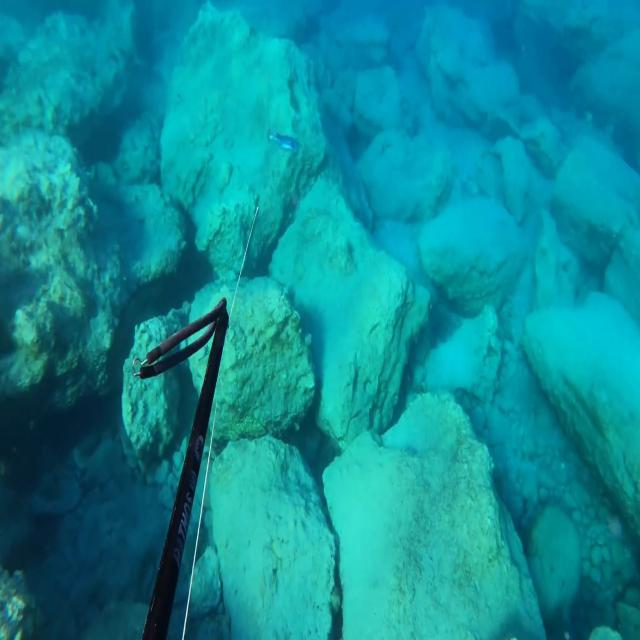Balon Baligi: (268, 129, 302, 150)
